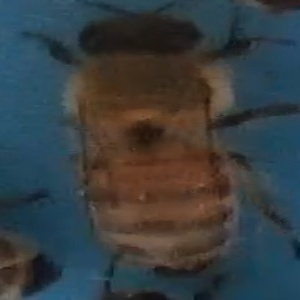bee: (32, 3, 292, 279)
